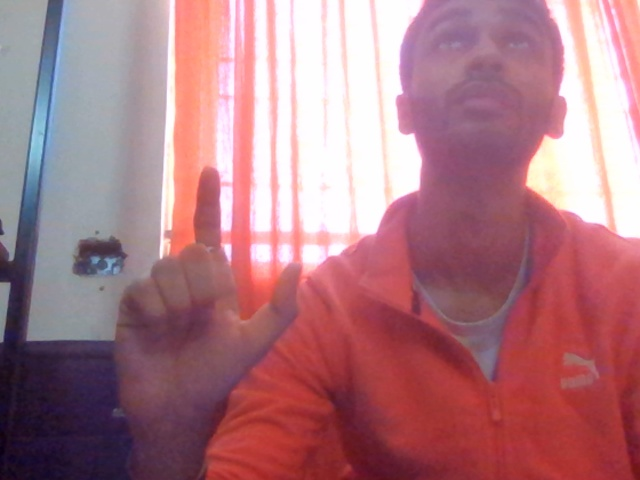L: (88, 153, 327, 469)
